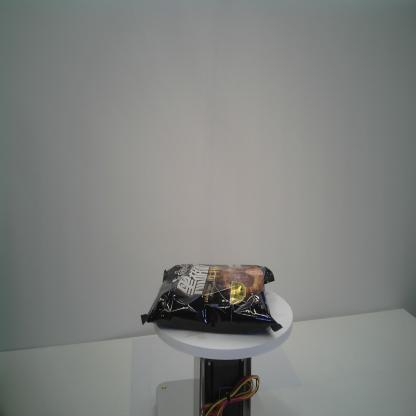Instant Noodles: (140, 262, 284, 335)
